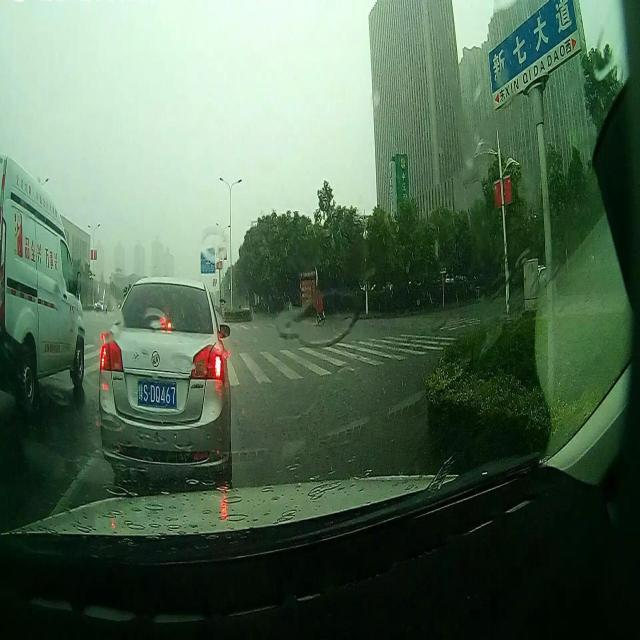car: (99, 274, 233, 481), (2, 150, 84, 407)
